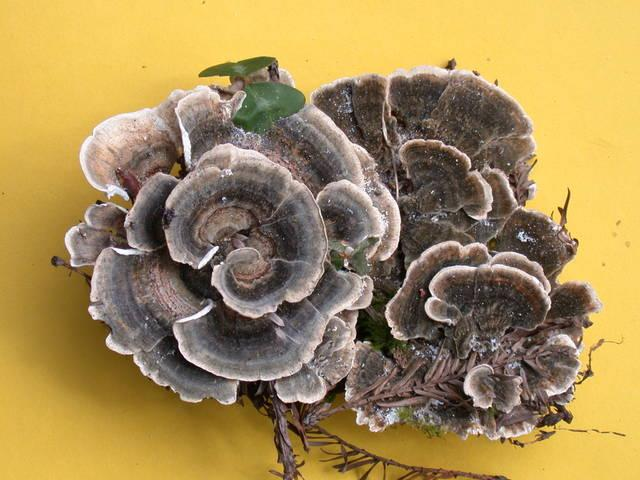poisonous_mushroom: (52, 57, 602, 473), (160, 142, 329, 319)
